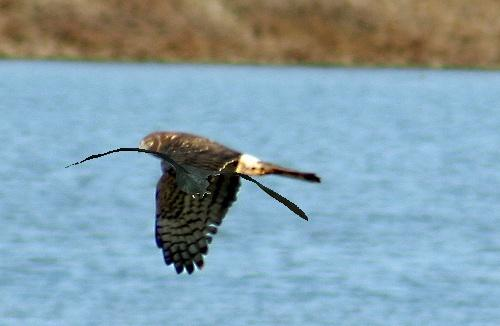tampered: (66, 149, 308, 221)
